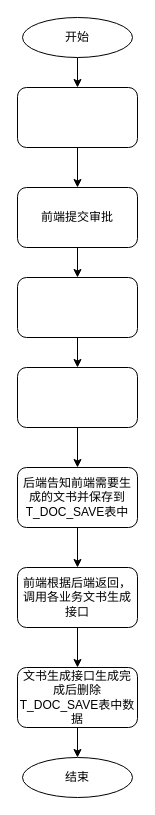
Some shapes in this 155 by 815 pixel diagram are drawn without their labels. The shapes that lost their labels are listed below. From the top down, each one's centre as x and y in pixels, then its label:
At point (77, 117): "保存业务数据".
At point (77, 307): "领导审批，将数据保存到审批相关表".
At point (77, 397): "审批完成后前端调用后端审批后处理接口".
